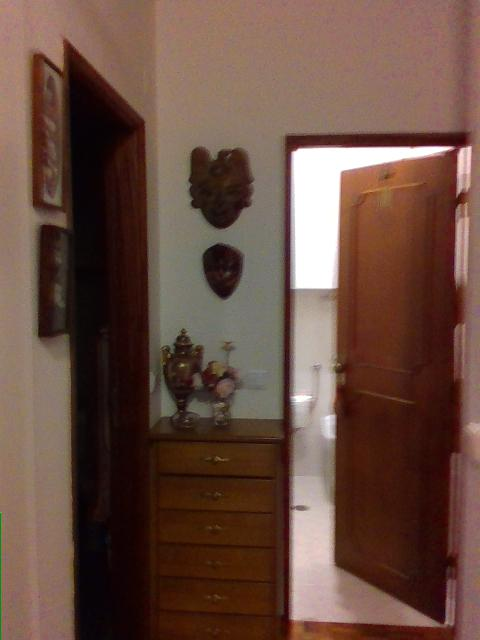semi_door: (283, 131, 471, 629)
